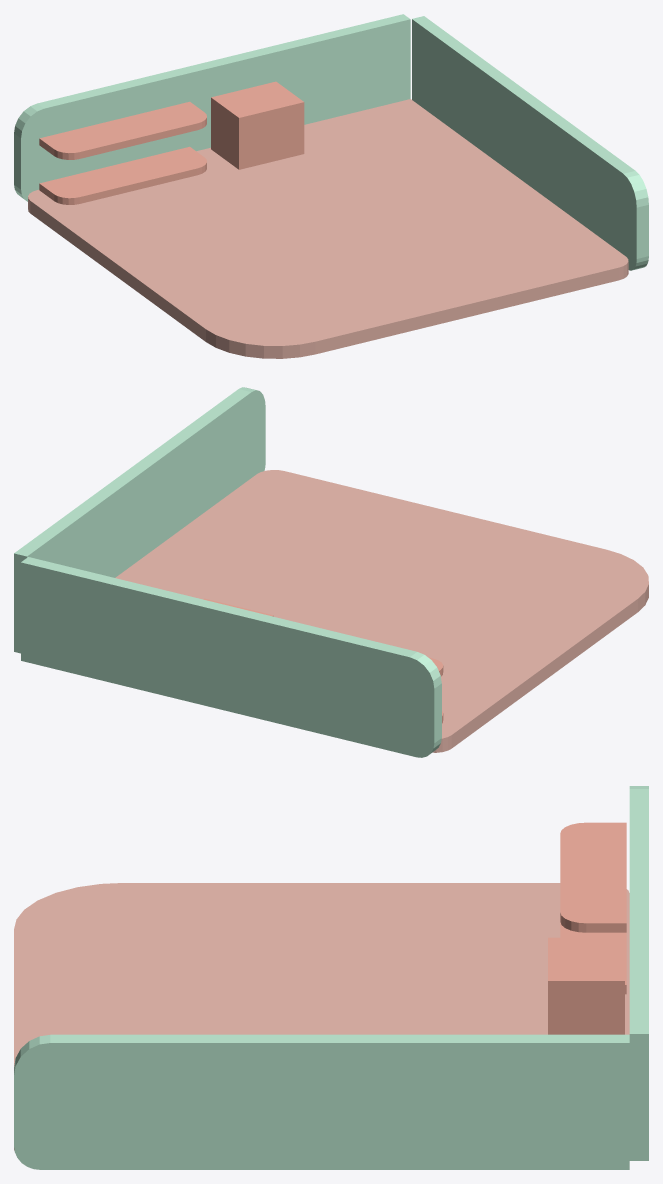
Rendered from store21.glb.
3 views of the same model, one above another, from view 1: azimuth 30°, elevation 25°; view 2: azimuth 150°, elevation 25°; view 3: azimuth 270°, elevation 25° (orthographic). The views are drawn at different scales.
Size of the model in its own units: 3.09 by 0.6794 by 3.08.
